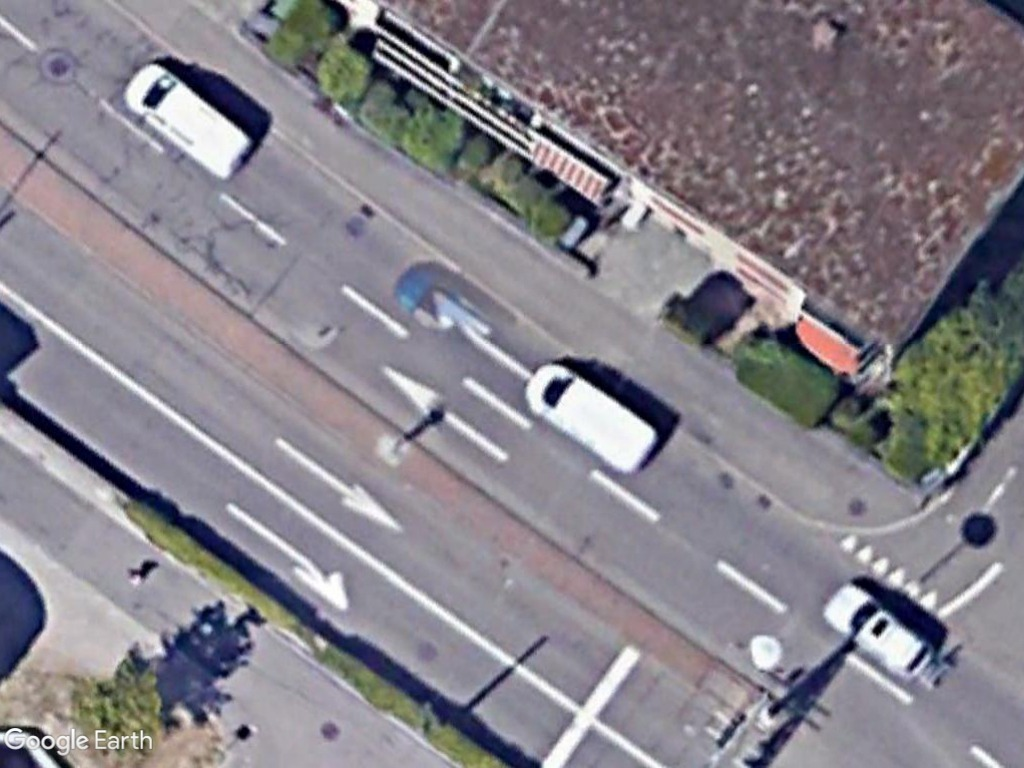car: (818, 579, 937, 685)
van: (519, 358, 663, 479), (122, 59, 255, 184)
